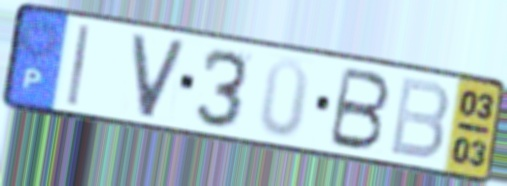0: (257, 55, 313, 141)
3: (194, 47, 252, 130)
B: (325, 64, 393, 153), (386, 74, 452, 163)
I: (65, 21, 94, 110)
V: (129, 31, 190, 122)
